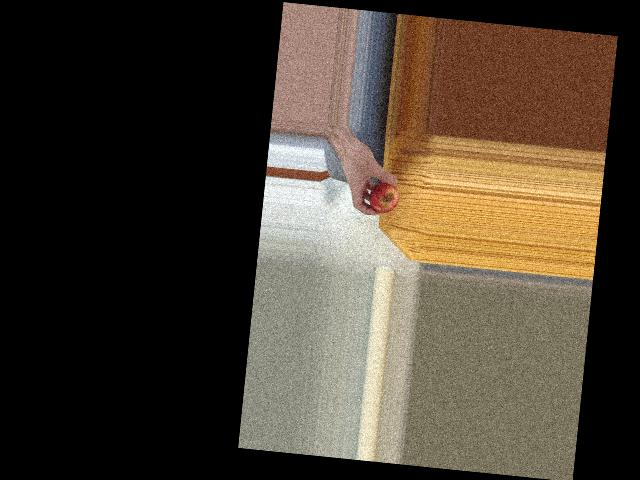apple: (368, 179, 400, 216)
